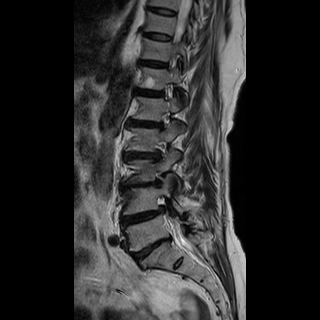LFS0: (152, 108, 174, 135)
